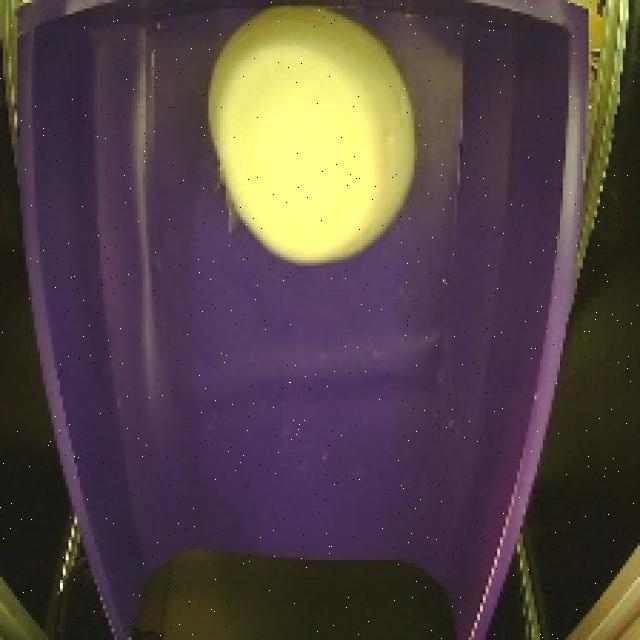white_radish: (193, 10, 422, 274)
